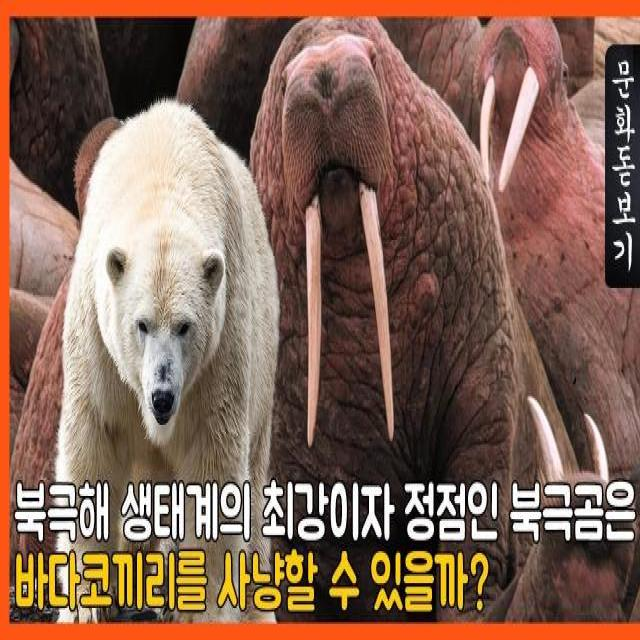walrus: (262, 20, 492, 467), (463, 14, 626, 443)
